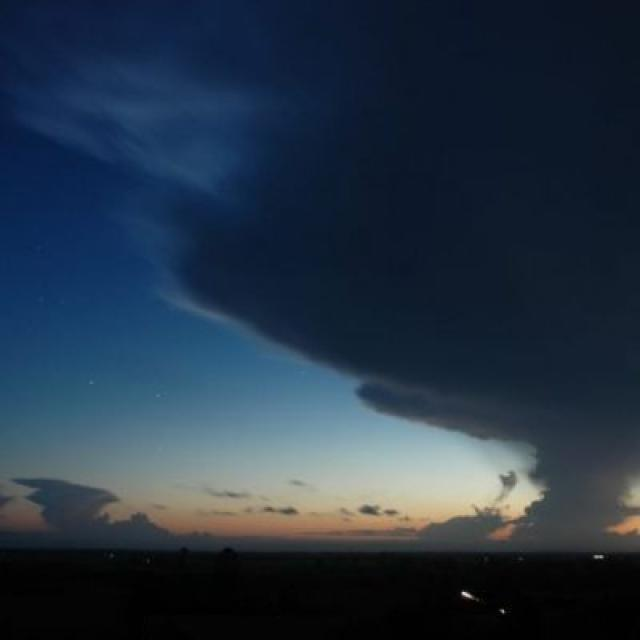cumulonimbus: (3, 0, 640, 553)
